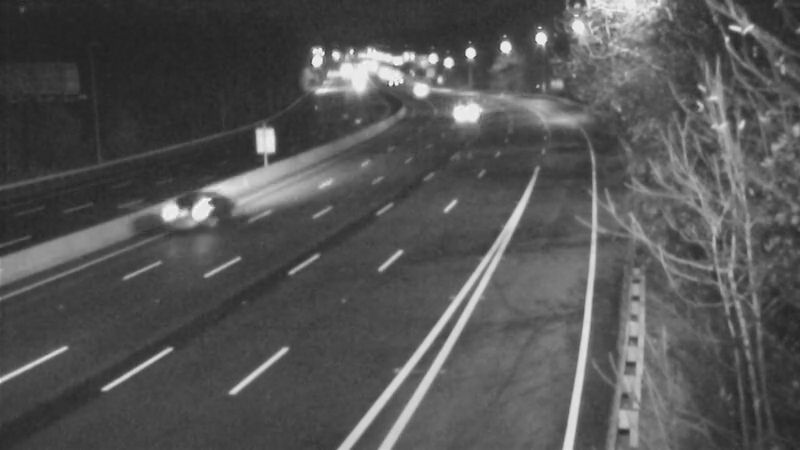vehicle: (136, 168, 216, 248), (393, 63, 443, 113), (437, 87, 487, 137)
